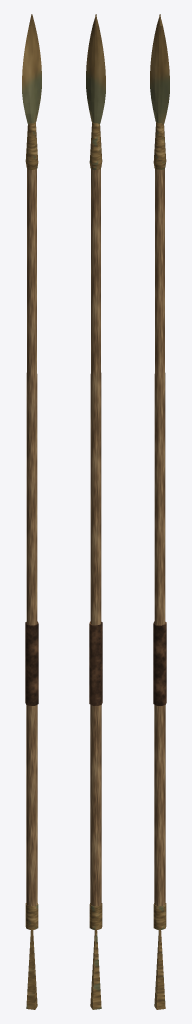
Rendered from lancia_lod.gltf.
The picture shows the model from 3 angles, left to right: view 1: azimuth 30°, elevation 25°; view 2: azimuth 150°, elevation 25°; view 3: azimuth 330°, elevation 25°; orthographic projection.
Visible parts, largest first — view 1: lancia_lod; view 2: lancia_lod; view 3: lancia_lod.
Boxes of the visible parts, box(x1,y1,x2,y2) form: lancia_lod: box(22, 14, 41, 1009); lancia_lod: box(86, 14, 105, 1009); lancia_lod: box(150, 14, 169, 1009).
Size of the model in its own units: 0.0448 by 2.11 by 0.0264.
3 materials, 3 textured.
